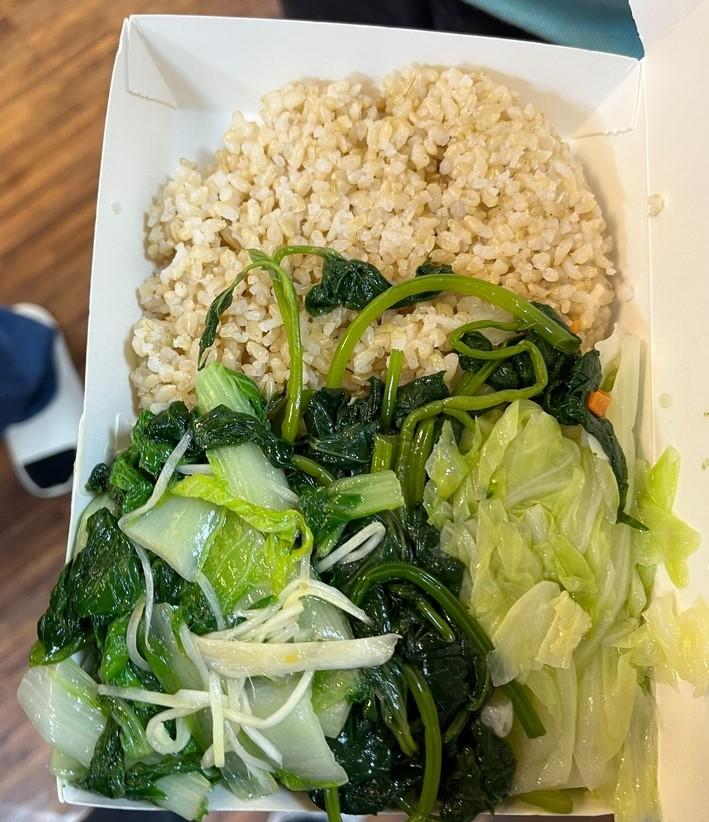big grilled chicken leg: (34, 0, 683, 822)
box: (127, 66, 618, 404)
braised fish fillet: (37, 392, 360, 799), (284, 380, 503, 818), (430, 404, 659, 807)
